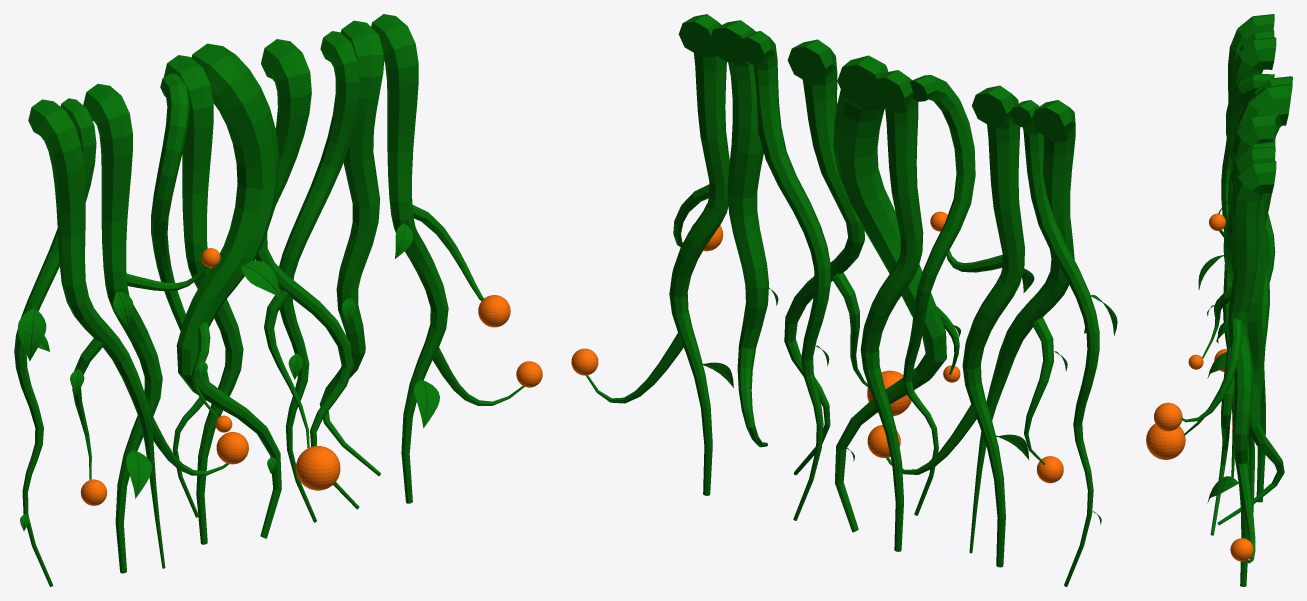
File: Plante T 4_mesh.fbx
3 views of the same model, side by side, from view 1: azimuth 30°, elevation 25°; view 2: azimuth 150°, elevation 25°; view 3: azimuth 270°, elevation 25° (orthographic). The views are drawn at different scales.
Visible parts, largest first — view 1: Sphère.003; view 2: Sphère.003; view 3: Sphère.003.
Boxes of the visible parts, x1,y1,x2,y2 form: Sphère.003: [14, 14, 542, 586]; Sphère.003: [571, 14, 1117, 586]; Sphère.003: [1146, 14, 1292, 586].
Bounding box in the file's own units: 788 × 691 × 215.
